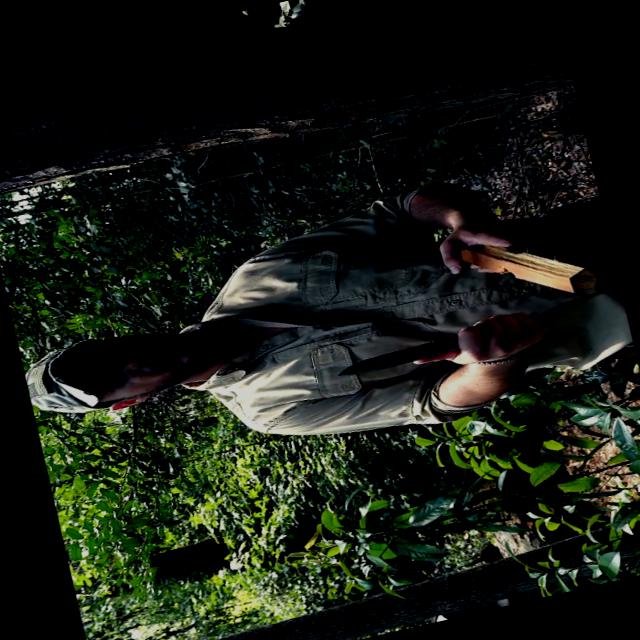knife: (326, 306, 528, 391)
